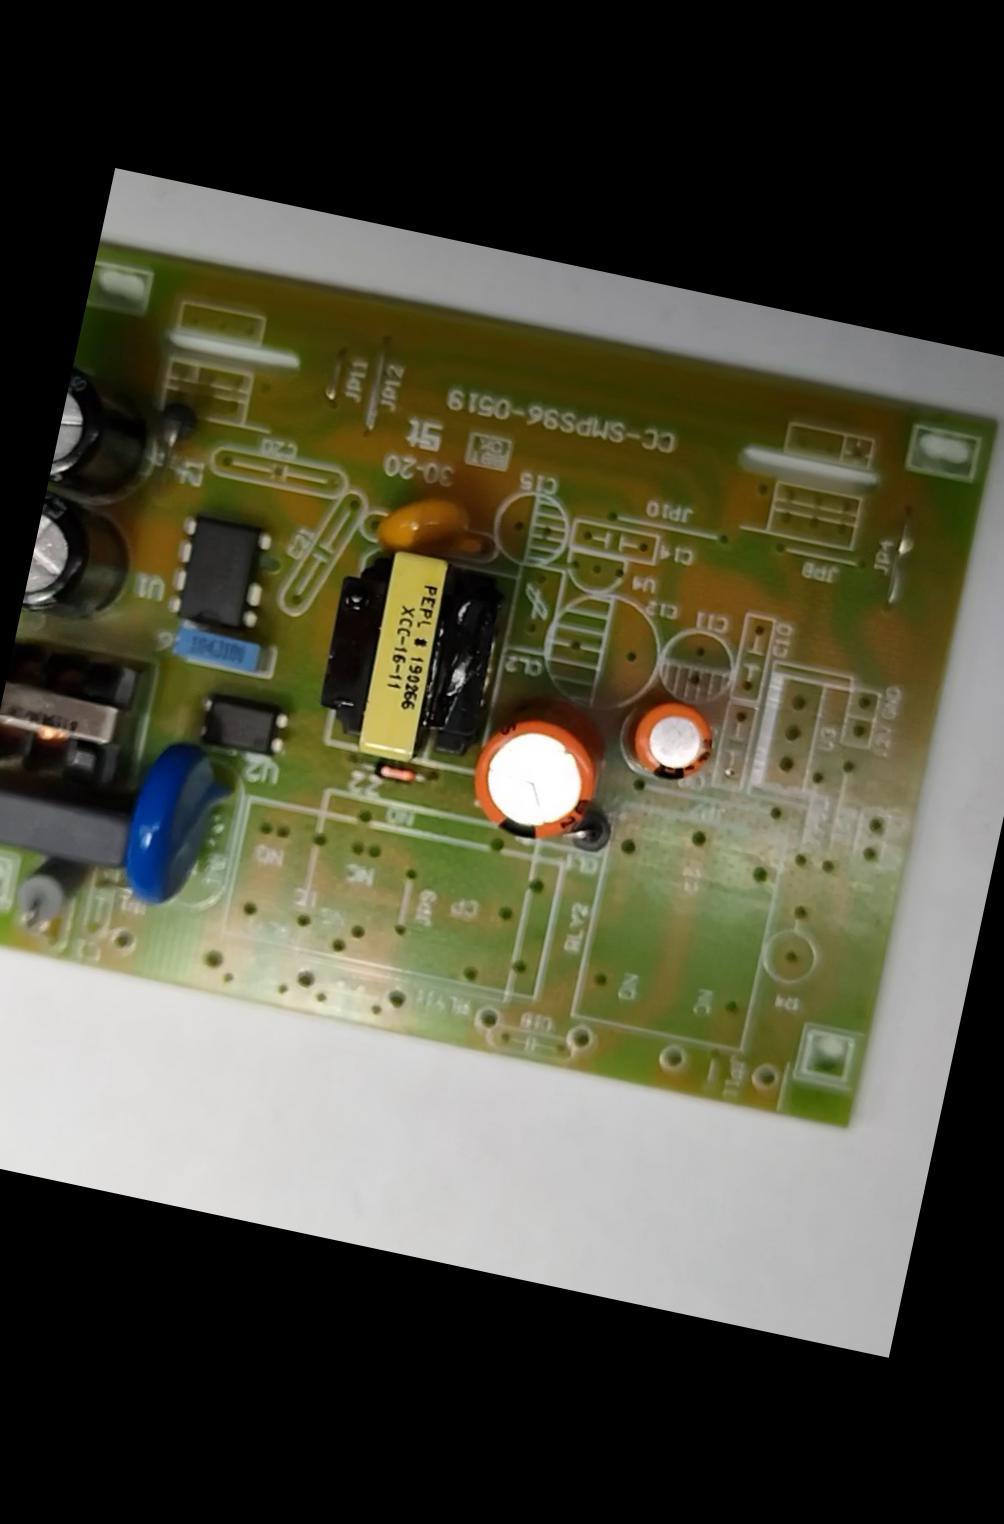Cap1: (459, 697, 613, 856)
Cap2: (624, 688, 726, 790)
Cap3: (20, 486, 151, 635)
Cap4: (48, 362, 167, 500)
MOSFET: (162, 504, 280, 644)
Mov: (106, 725, 249, 921)
Resistor: (9, 846, 96, 933)
Transformer: (298, 532, 515, 787), (0, 641, 148, 800)
